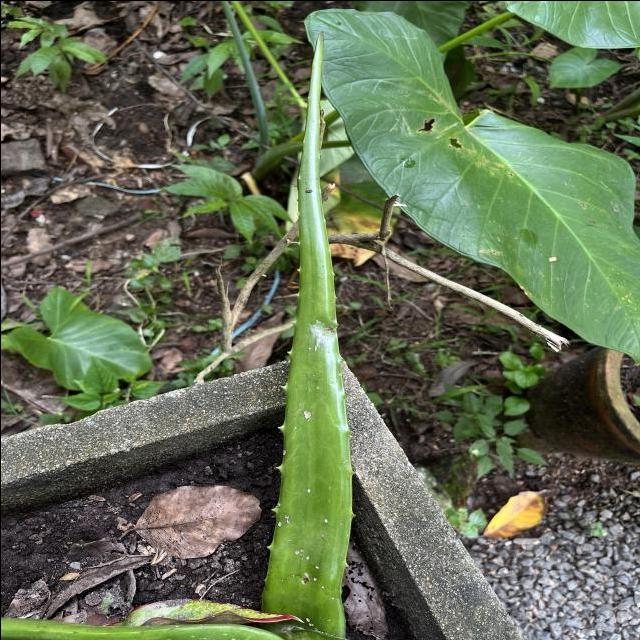Aloe vera: (252, 28, 360, 626)
